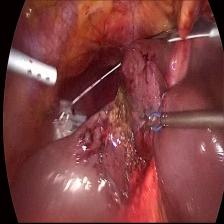Bipolar: (134, 104, 169, 144)
Irrigator: (16, 50, 59, 89)
Specimen Bag: (50, 94, 94, 150)
